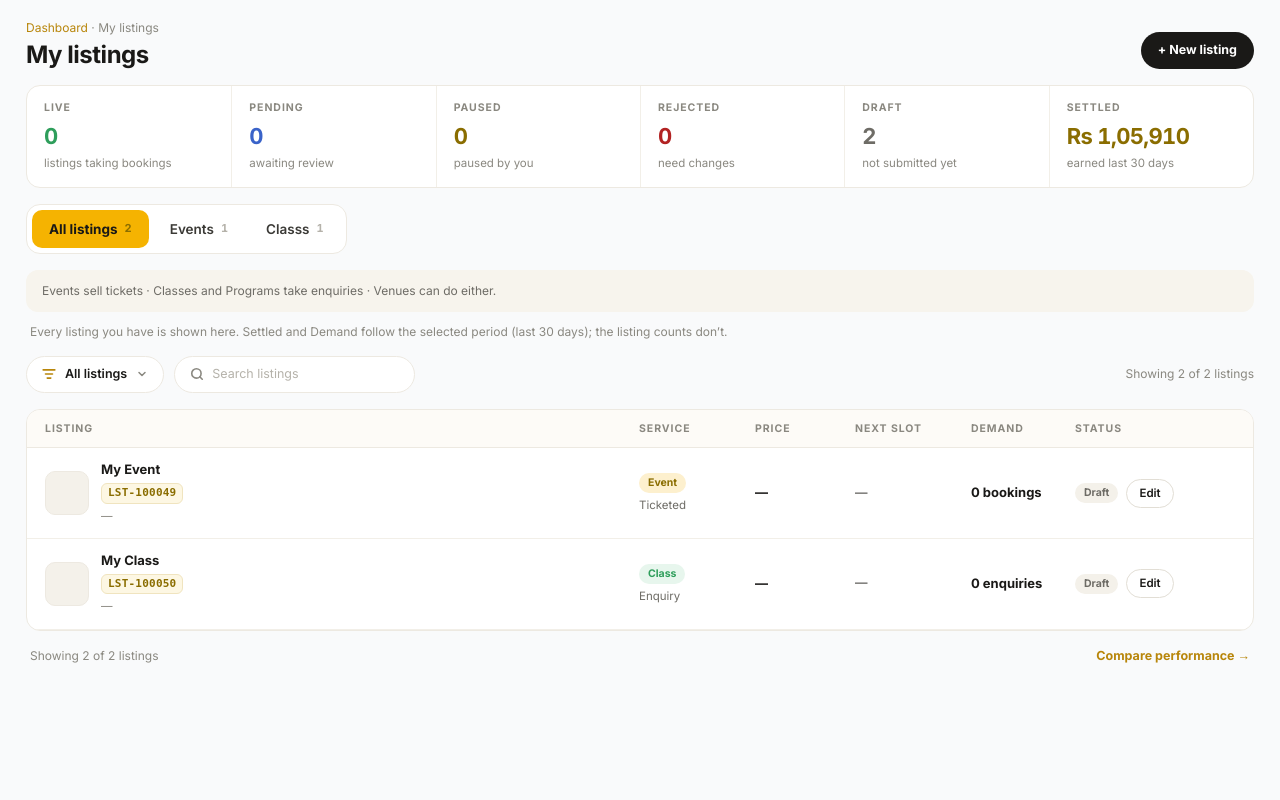
Test: ServiceListings — service scope › filters to only the selected service type
The width and height of the screenshot is (1280, 800).
Expected: the text "My Event" is shown, [101,461,160,477]
Expected: the text "My Class" is shown, [101,552,159,568]
Click the tab "Events 1".
click(199, 229)  # box [153,210,245,248]
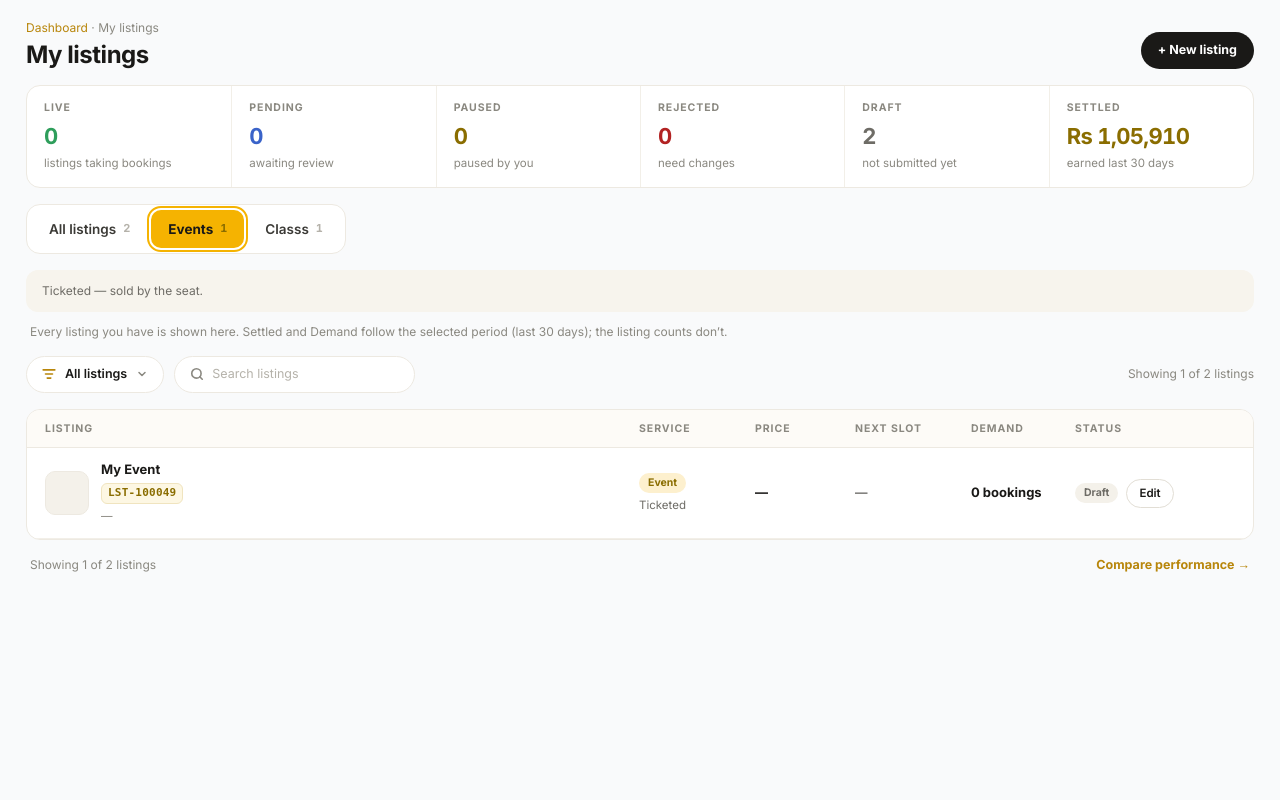
Expected: the text "My Event" is shown, [101,461,160,477]
Expected: the button "My Class" is gone
